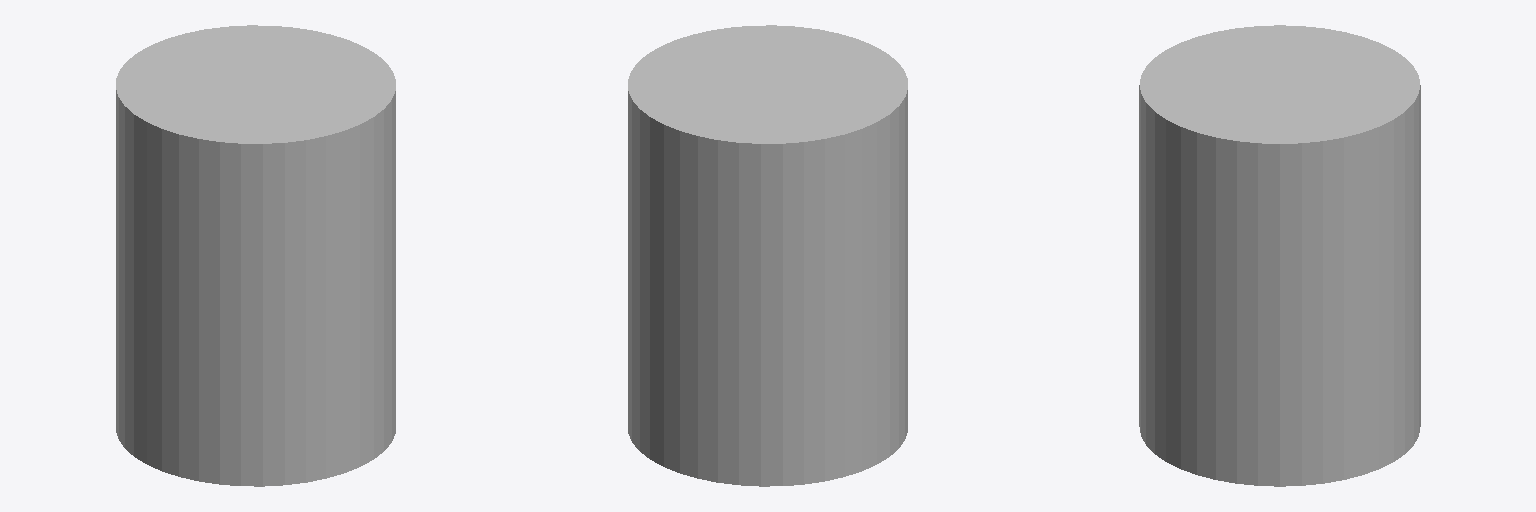
The model's file is canned_food_14&15.obj.
3 renders of one model, left to right at view 1: azimuth 30°, elevation 25°; view 2: azimuth 150°, elevation 25°; view 3: azimuth 270°, elevation 25°, orthographic.
Visible parts, largest first — view 1: canned_food_14_15:pCylinder6; view 2: canned_food_14_15:pCylinder6; view 3: canned_food_14_15:pCylinder6.
Boxes of the visible parts, x1,y1,x2,y2 form: canned_food_14_15:pCylinder6: [116, 25, 395, 486]; canned_food_14_15:pCylinder6: [628, 25, 907, 486]; canned_food_14_15:pCylinder6: [1139, 25, 1420, 486].
Bounding box in the file's own units: 0.2582 × 0.3473 × 0.2582.